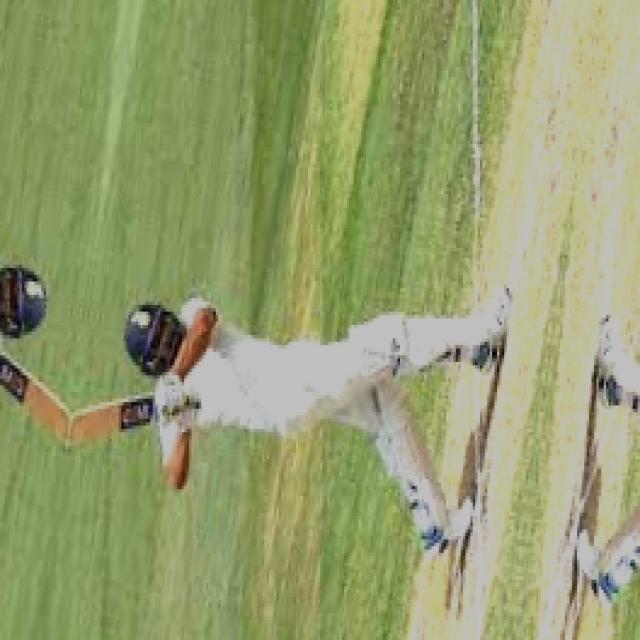toe: (68, 410, 86, 454)
